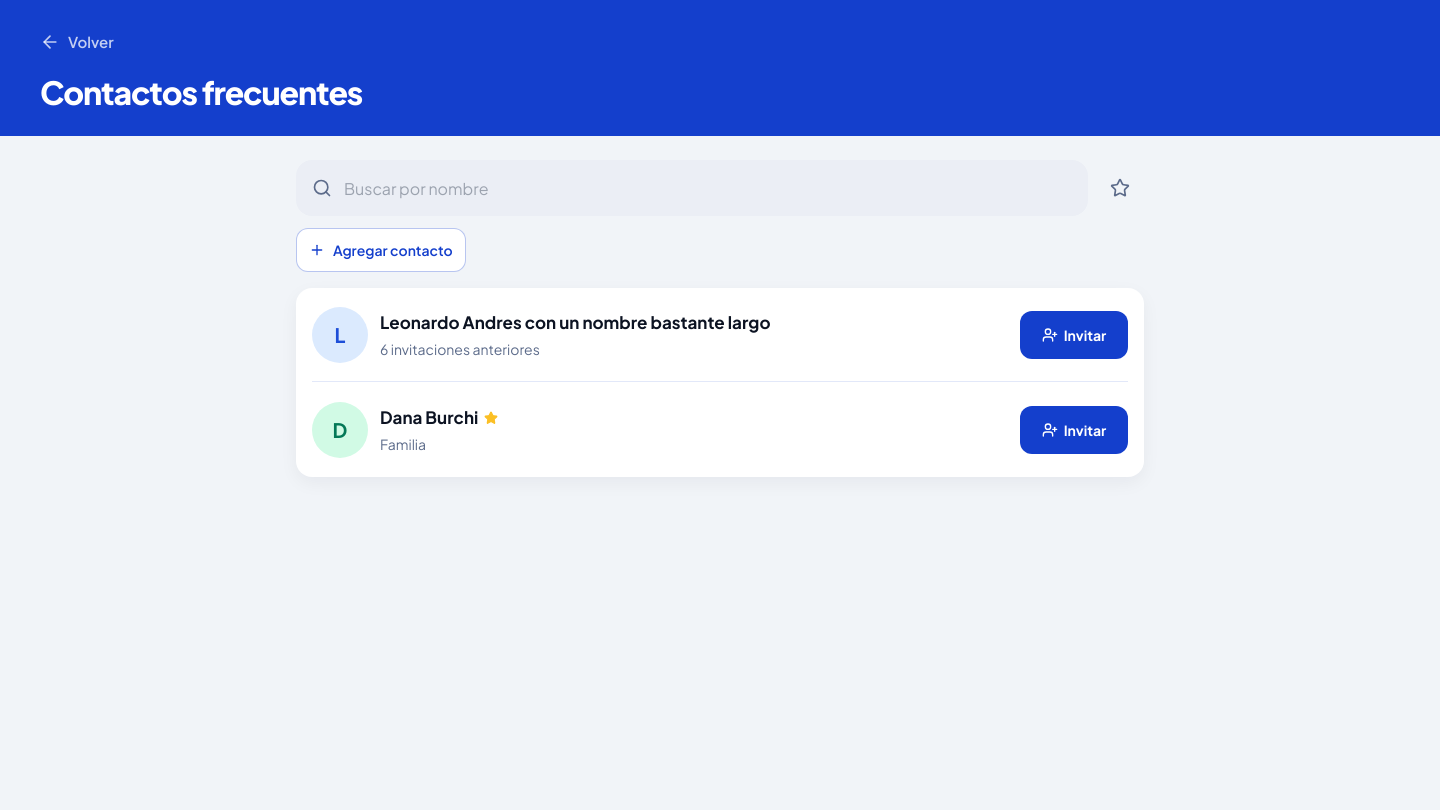
ResidentContactsManager › reserva la fila móvil para nombre e Invitar y abre opciones al tocar la tarjeta
Expected: the text "Leonardo Andres con un nombre bastante largo" is shown, top-left (380, 310), bottom-right (770, 335)
Click the button with aria-label "Abrir opciones de Leonardo Andres con un nombre bastante lar": (662, 335) top-left (312, 307), bottom-right (1012, 363)
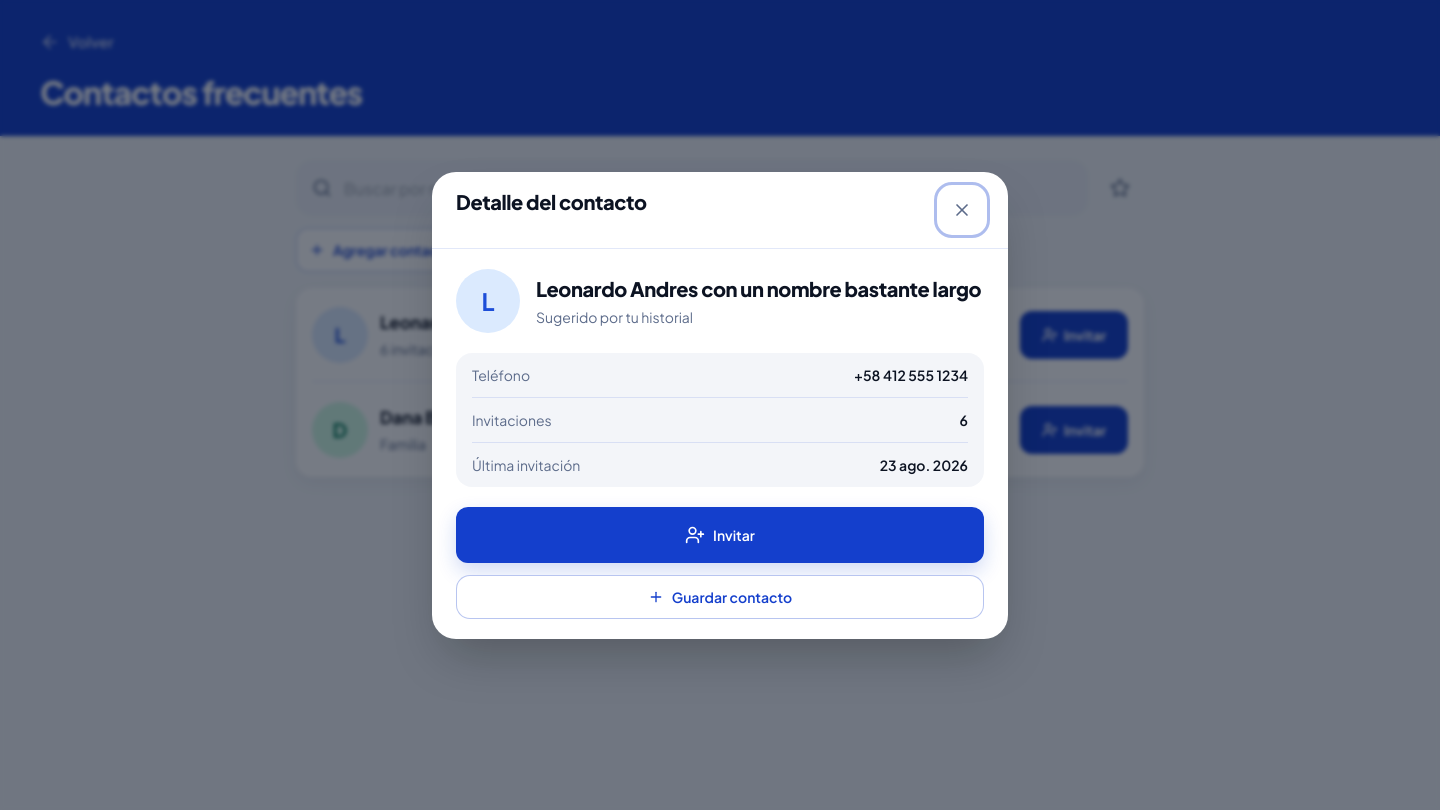
Result: the text "6" is shown at top-left (960, 410), bottom-right (968, 430)
Result: the text "23 ago. 2026" is shown at top-left (880, 454), bottom-right (968, 474)
Result: the button "Guardar contacto" is enabled at top-left (456, 574), bottom-right (984, 618)
